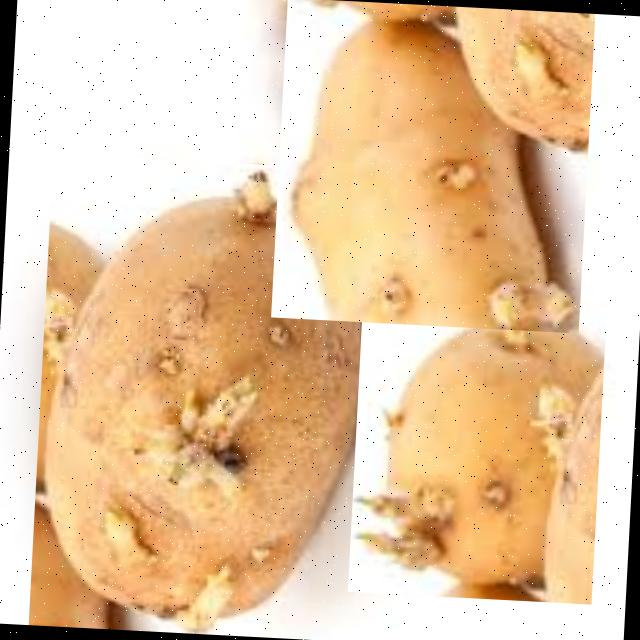Sprouted potato: (27, 153, 425, 640), (270, 0, 594, 333), (347, 290, 606, 604)
